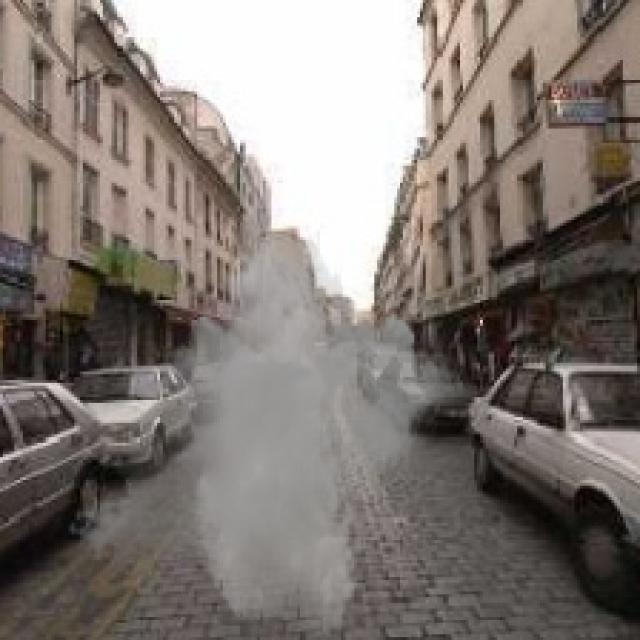Smoke: (66, 232, 466, 637)
